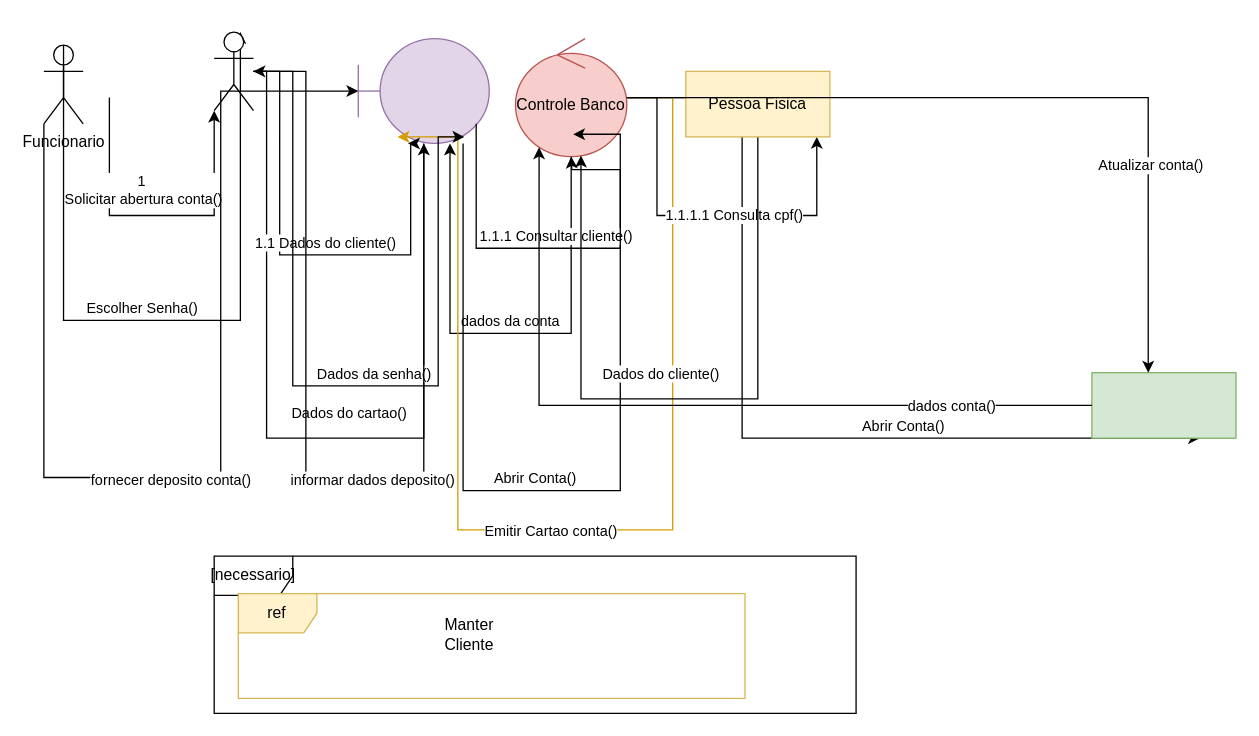
This 1259x736 diagram has some shape labels left out. The centre of each missing label's shape, as x and y in pixels:
"Cliente" belongs at point (233, 71).
"Conta Comum" belongs at point (1163, 404).
"interface banco" belongs at point (423, 90).
